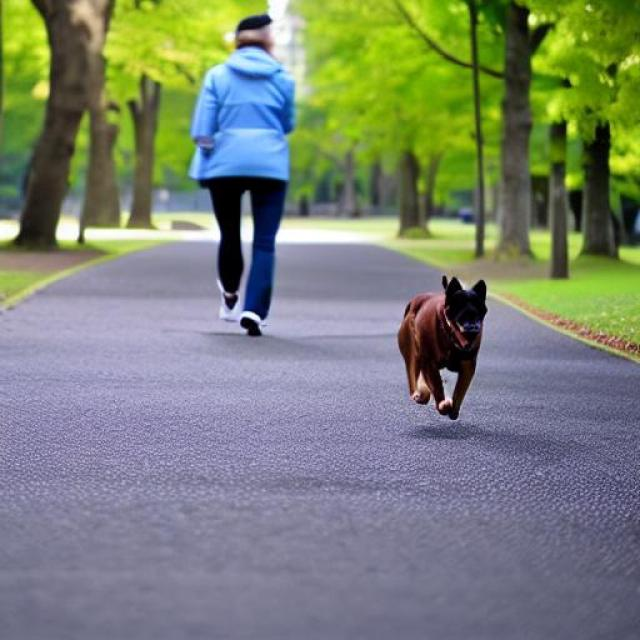Unleashed_Dog: (217, 148, 489, 422)
